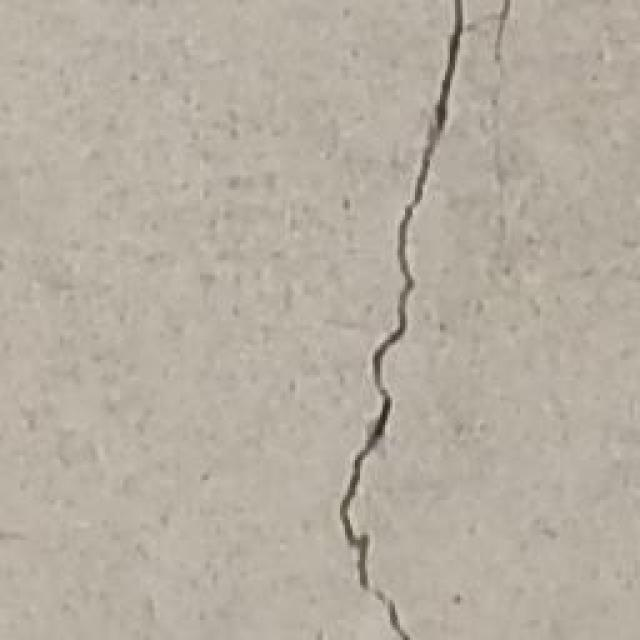concrete-crack: (336, 2, 465, 639), (471, 2, 508, 64)
